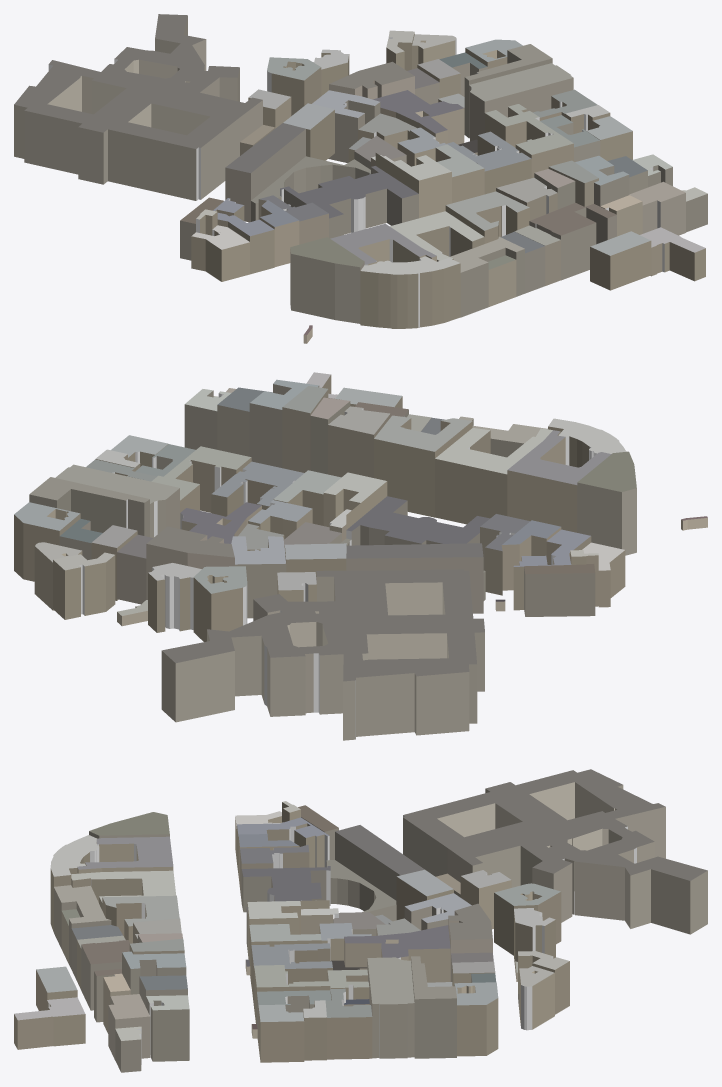
3 views of the same model, one above another, from view 1: azimuth 30°, elevation 25°; view 2: azimuth 150°, elevation 25°; view 3: azimuth 270°, elevation 25° (orthographic). The views are drawn at different scales.
Parts seen in each view (by area): view 1: tuile; view 2: tuile; view 3: tuile.
Part boxes in pixels (x1=…): tuile: x1=14, y1=14, x2=707, y2=343; tuile: x1=14, y1=372, x2=707, y2=740; tuile: x1=14, y1=769, x2=707, y2=1072.
Size of the model in its own units: 276 by 39.67 by 345.
